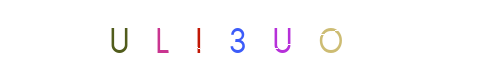0: (225, 0, 305, 80)
3: (198, 0, 278, 80)
I: (195, 0, 275, 80)
L: (158, 0, 238, 80)
U: (79, 0, 159, 80), (200, 0, 280, 80)
